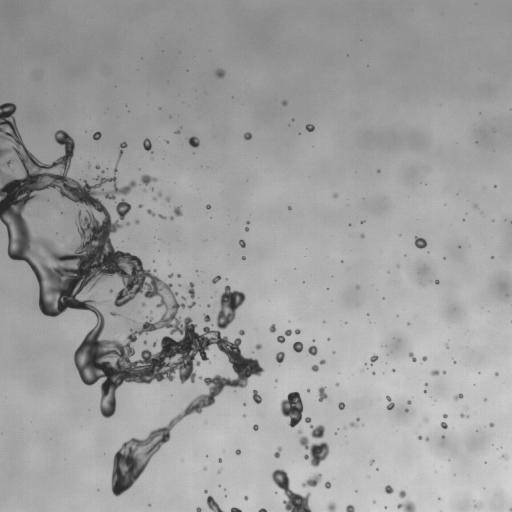droplet: (297, 429, 329, 466), (280, 391, 303, 427), (305, 417, 325, 438), (397, 490, 415, 511), (141, 174, 156, 185), (318, 386, 327, 401), (414, 237, 426, 248), (188, 136, 199, 147), (252, 390, 261, 403), (293, 341, 303, 352), (143, 138, 151, 151), (386, 396, 394, 409), (275, 352, 284, 363), (173, 206, 182, 216), (308, 345, 317, 355), (215, 69, 224, 78), (92, 131, 101, 140), (384, 485, 393, 494), (327, 502, 336, 511), (370, 354, 378, 364), (274, 447, 281, 458), (243, 132, 252, 140), (453, 393, 463, 400), (212, 275, 220, 283), (305, 124, 314, 131), (474, 502, 482, 509), (440, 422, 447, 429), (324, 481, 331, 488), (239, 239, 245, 247), (269, 324, 275, 332), (346, 505, 354, 511), (204, 314, 210, 321), (311, 365, 318, 371), (338, 402, 344, 409), (501, 453, 508, 459), (431, 370, 439, 375), (349, 422, 357, 427), (158, 214, 165, 219), (253, 424, 258, 430), (282, 100, 287, 105), (95, 164, 100, 169), (256, 344, 261, 349), (422, 356, 427, 361), (320, 359, 325, 364), (235, 449, 240, 454), (206, 204, 210, 209), (168, 273, 173, 277), (239, 330, 244, 334), (460, 413, 465, 417), (489, 422, 493, 427), (196, 507, 201, 511), (157, 192, 161, 196), (333, 193, 337, 197), (166, 197, 170, 201), (435, 280, 439, 284), (141, 302, 145, 306), (407, 400, 411, 404), (443, 414, 447, 418), (418, 435, 422, 439), (425, 437, 429, 441), (369, 460, 373, 464), (153, 341, 156, 346), (245, 227, 248, 231), (360, 234, 364, 237), (109, 289, 112, 293), (182, 296, 185, 300), (442, 371, 446, 374), (176, 130, 179, 133), (153, 197, 156, 200), (139, 204, 142, 207), (135, 220, 138, 223), (126, 222, 129, 225), (242, 256, 245, 259), (356, 285, 359, 288), (143, 341, 146, 344), (445, 344, 448, 347), (453, 360, 456, 363), (336, 383, 339, 386), (307, 389, 310, 392), (405, 409, 408, 412), (218, 459, 221, 462), (244, 496, 247, 499), (509, 507, 511, 511), (166, 140, 168, 143), (377, 170, 380, 172), (288, 207, 291, 209), (170, 217, 173, 219), (178, 274, 180, 277), (372, 372, 375, 374), (495, 372, 497, 375), (425, 382, 427, 385), (356, 418, 359, 420), (204, 490, 207, 492), (475, 205, 477, 207), (247, 221, 249, 223), (361, 220, 363, 222), (207, 304, 209, 306), (327, 338, 329, 340), (243, 403, 245, 405), (442, 435, 444, 437), (218, 470, 220, 472), (438, 497, 440, 499)
ligament: (0, 103, 263, 496), (272, 469, 311, 511), (114, 142, 127, 172), (277, 328, 300, 343), (206, 495, 223, 511), (302, 473, 321, 487), (53, 202, 65, 216), (409, 352, 416, 361), (147, 209, 155, 216), (231, 507, 241, 511), (258, 508, 267, 511)
